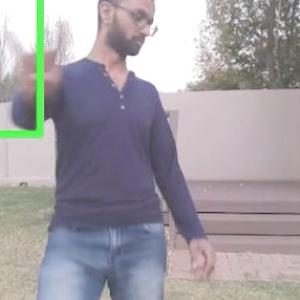takeoff-hand: (0, 13, 80, 110)
